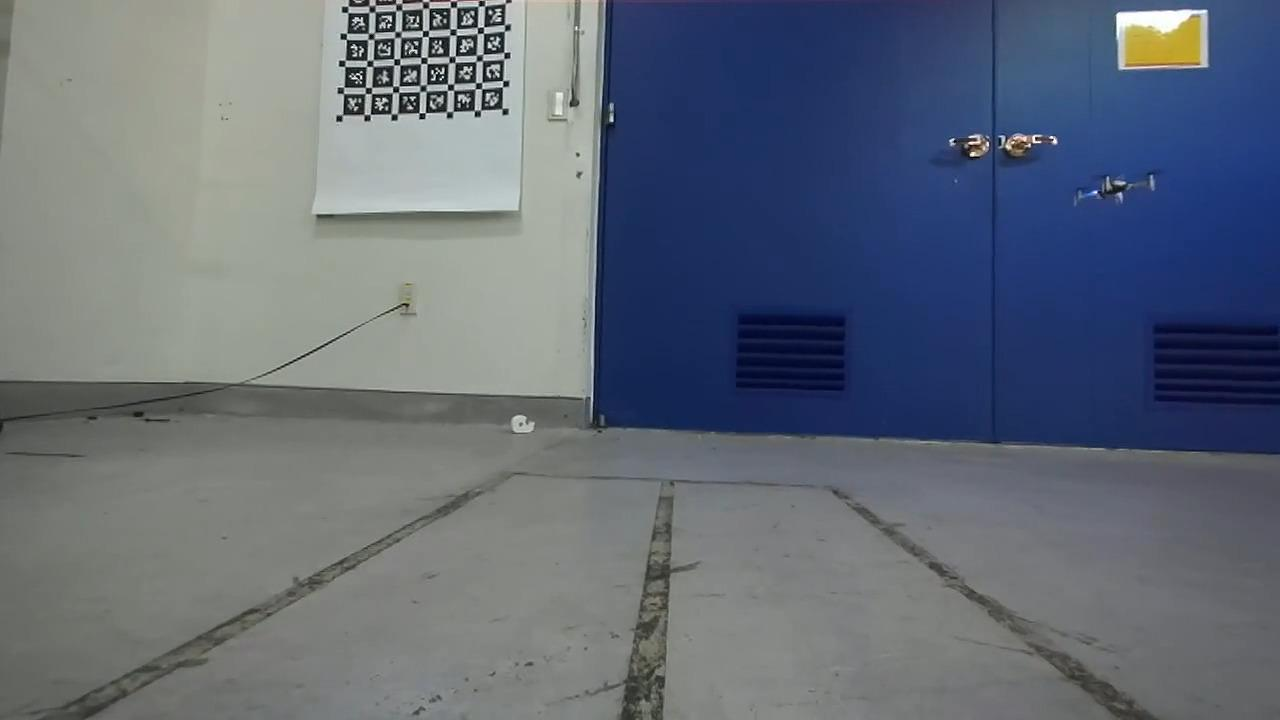crazyflie: (1062, 168, 1165, 213)
